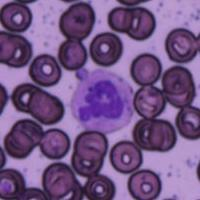N: (70, 68, 135, 133)
